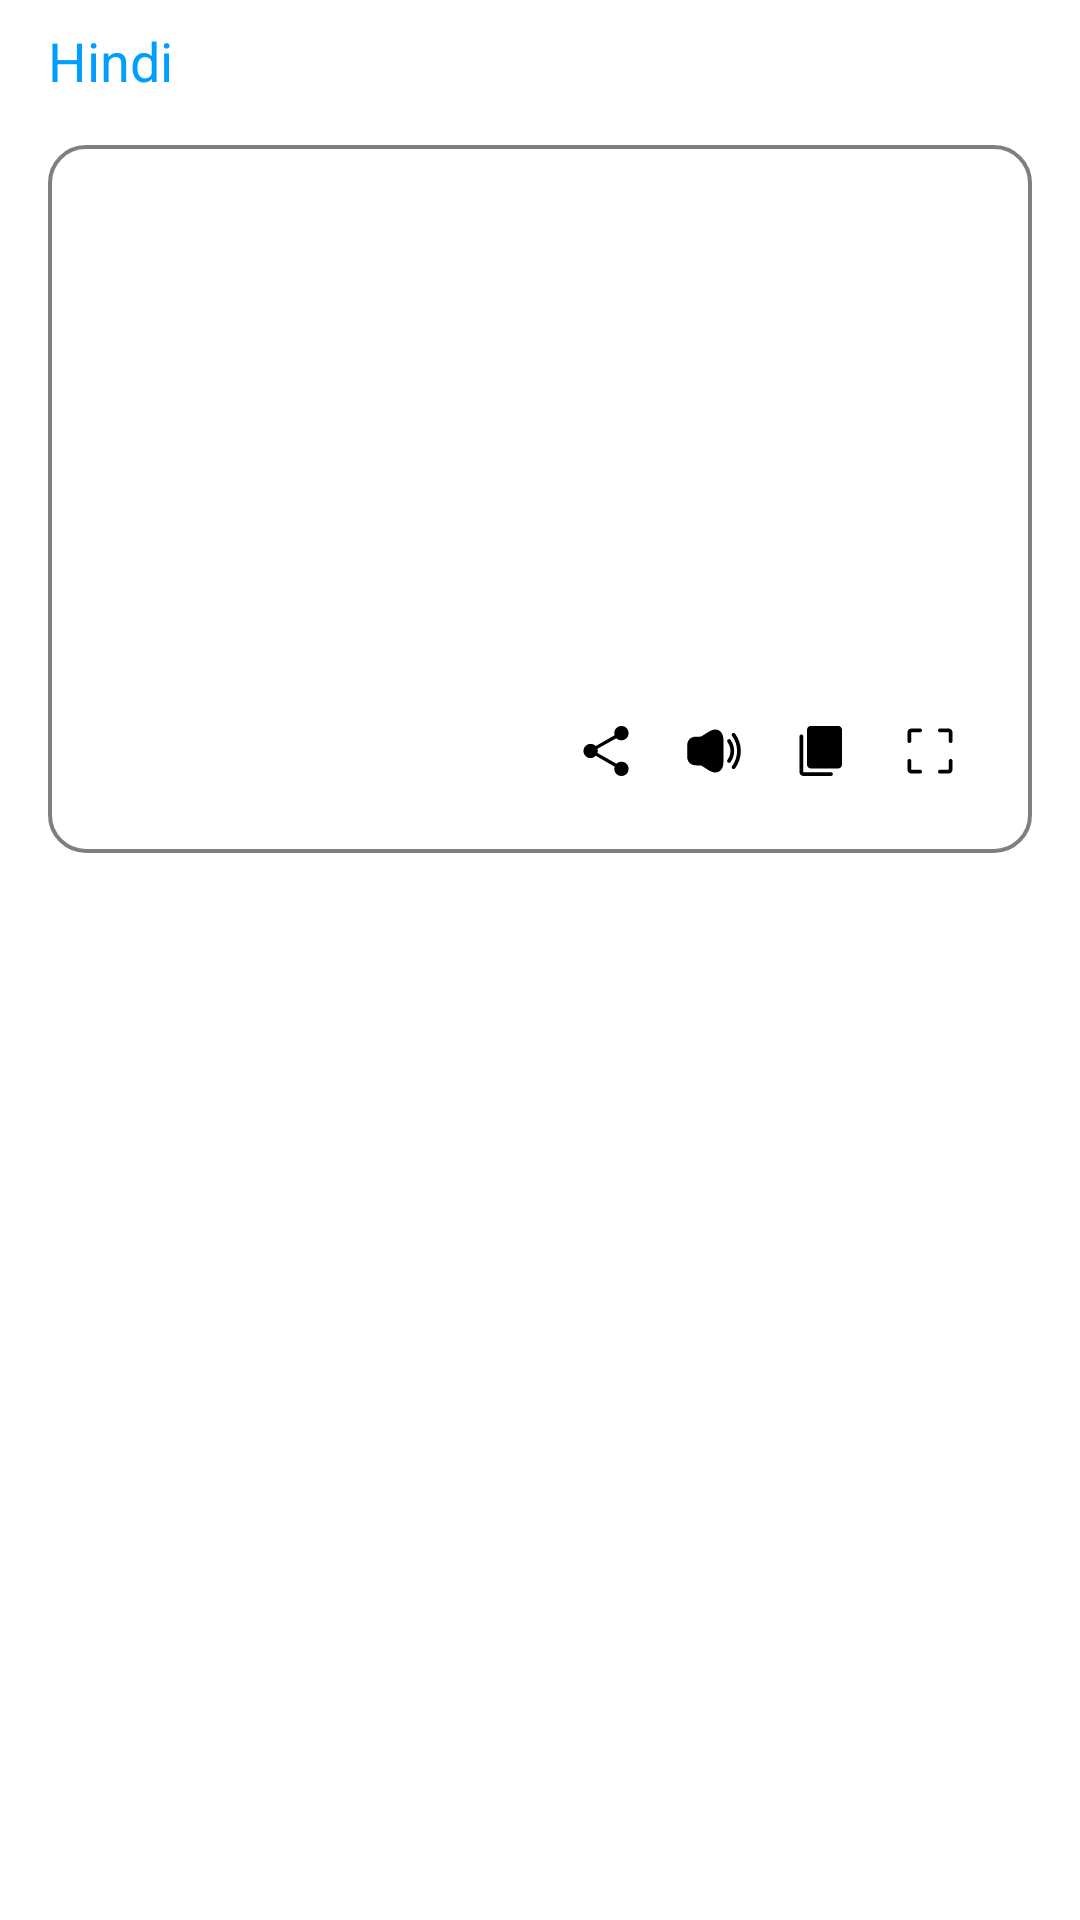

Icons on this 1080px×1920px Android screen, each with its box as bbox(x1, y1, x2, y2):
share: bbox(583, 726, 629, 776)
speaker: bbox(687, 729, 741, 773)
zoom: bbox(907, 728, 953, 774)
